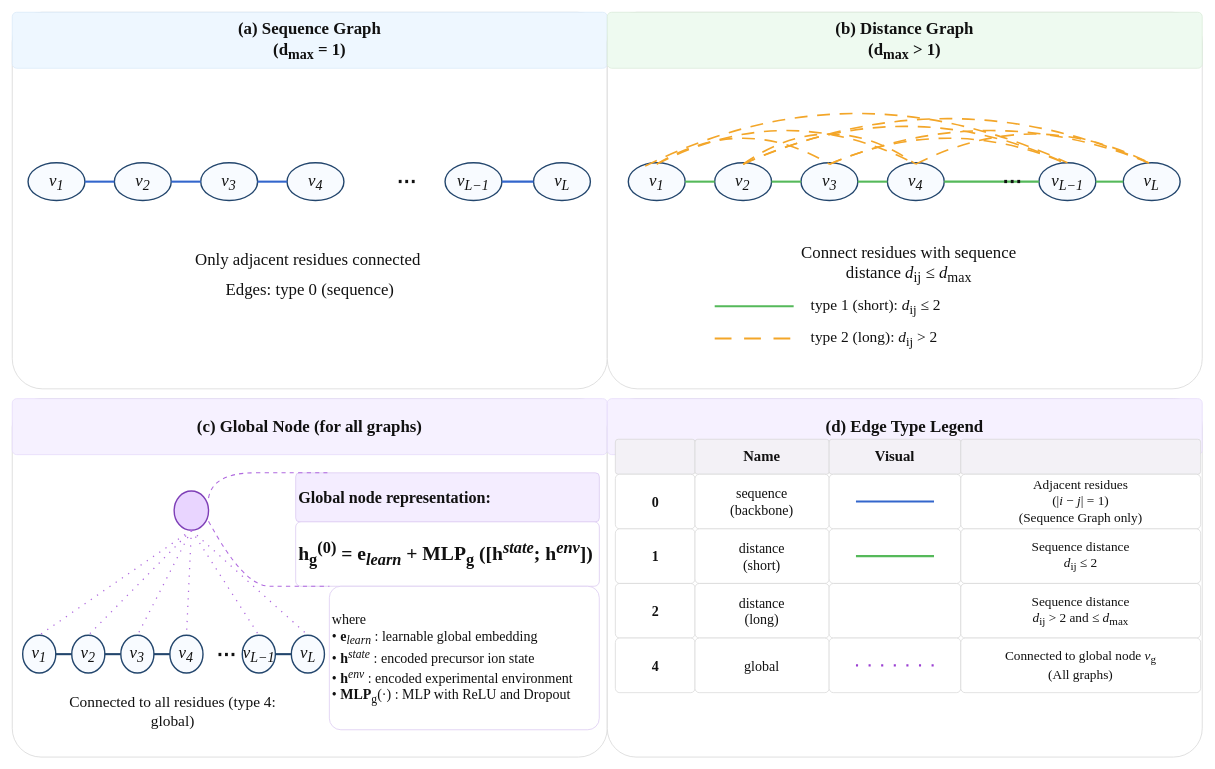
The diagram is 1215 pixels wide and 769 high, and some of its shapes have lost their labels. The shapes that lost their labels are listed below. From the top down, each one's centre as x and y in pixels, then its label:
At [655,456]: "Type".
At [1080,456]: "Definition".
At [191,510]: "v g".
